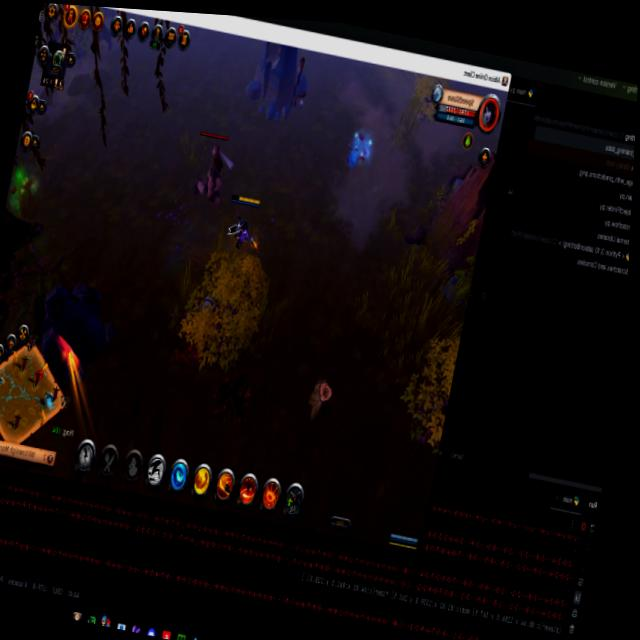red: (185, 121, 242, 218), (217, 187, 271, 266), (385, 526, 422, 553)
